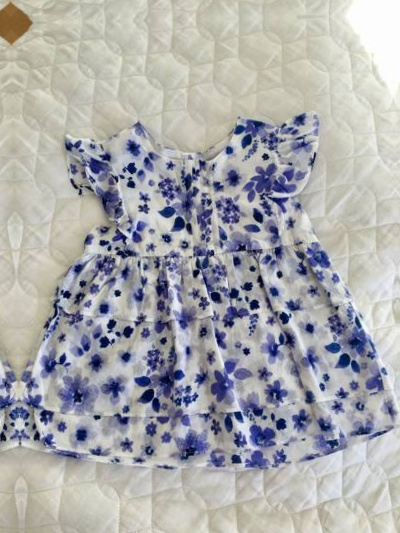Dress: (29, 88, 376, 462), (0, 96, 3, 470)
